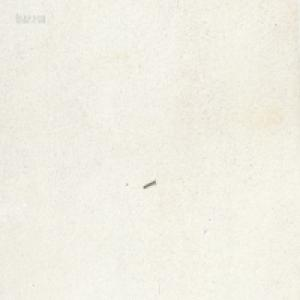Bolt: (141, 177, 155, 188)
